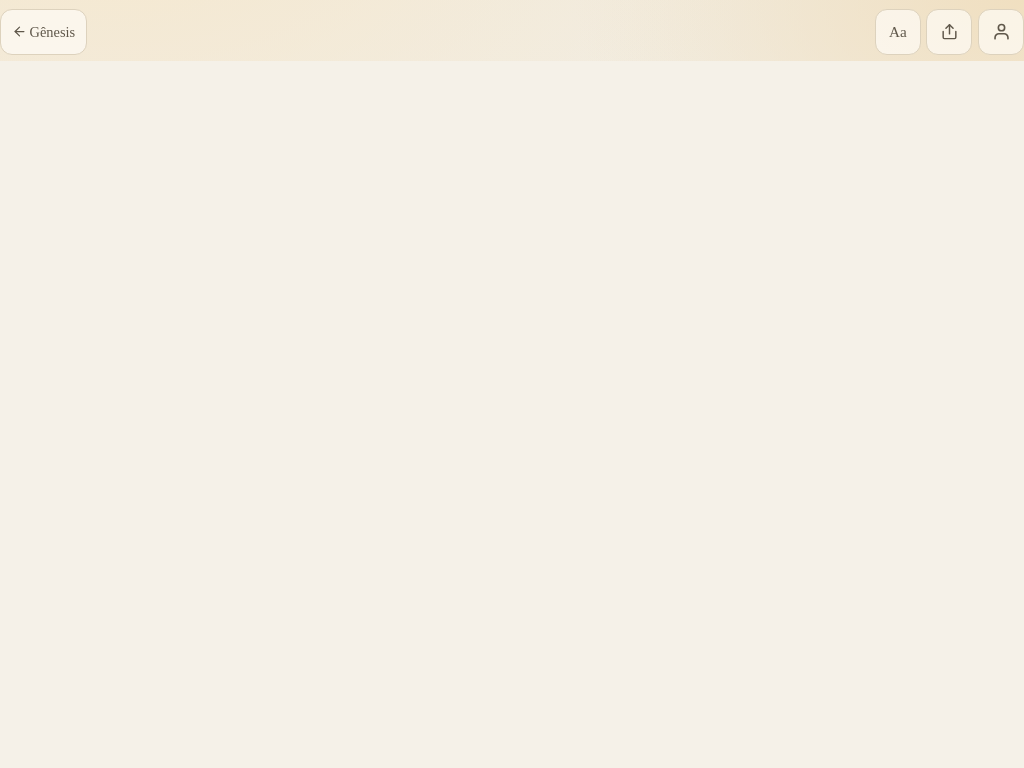
Test: LeituraTopo — o auto-ocultar contra o popover › com o "Aa" aberto, rolar não esconde o topo
Click the button with class "leitura-top-aa" at (898,32), box [875,9,921,55]
(page scrolled)
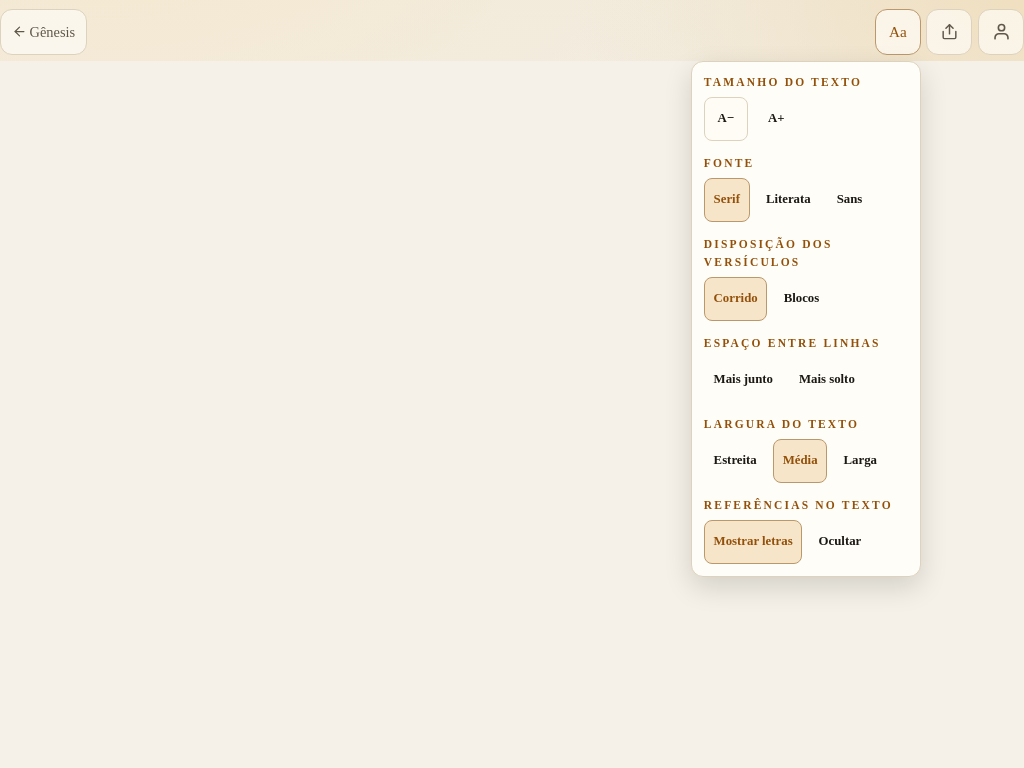
Result: the dialog is shown at [691,61,921,577]
